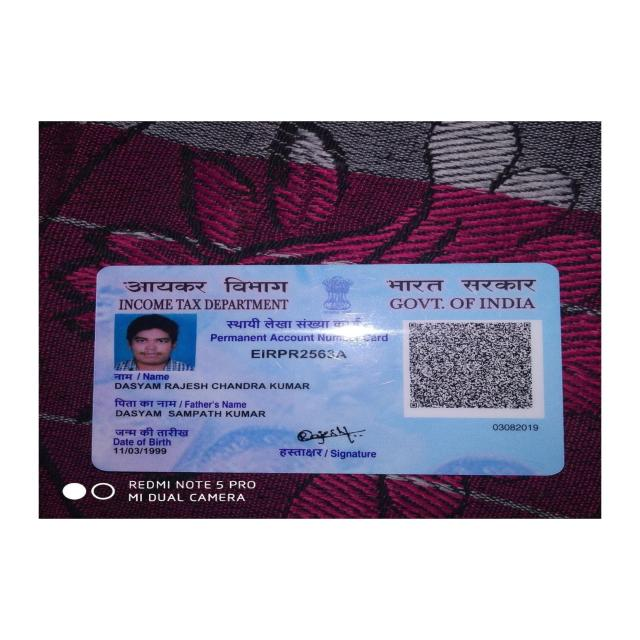pan_card: (94, 266, 558, 471)
